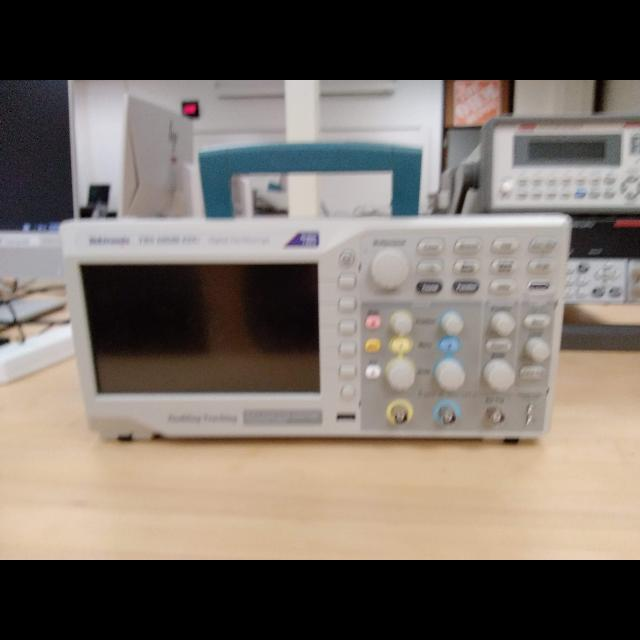Digital-Oscilloscope: (63, 219, 568, 434)
